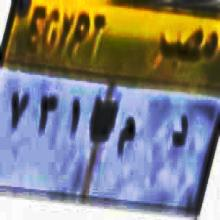1: (68, 89, 80, 146)
3: (38, 89, 58, 142)
7: (10, 83, 28, 137)
daal: (170, 105, 188, 156)
meem: (115, 110, 137, 160)
